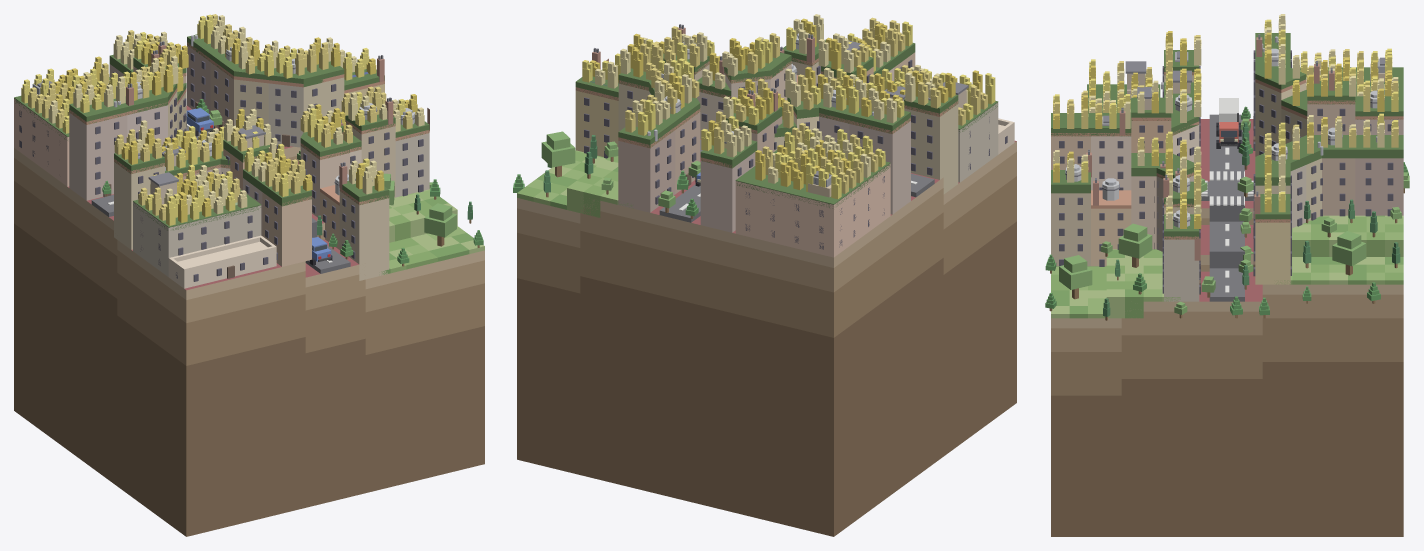
Rendered from block_18_urbanfarm_55.glb.
3 views of the same model, side by side, from view 1: azimuth 30°, elevation 25°; view 2: azimuth 150°, elevation 25°; view 3: azimuth 270°, elevation 25° (orthographic). The views are drawn at different scales.
Visible parts, largest first — view 1: Patch_MidRight_b17_UF, Cerda_MidRight_b17_UF, Insets_MidRight_b17_UF, UFR_Cerda_MidRight_b17_UF, Green_MidRight_b17_UF, CerdaRoofProps_MidRight_b17_UF, UFR_Insets_MidRight_b17_UF, Roads_MidRight_b17_UF, Asset_Tree_Round.071_UF; view 2: Patch_MidRight_b17_UF, Cerda_MidRight_b17_UF, Insets_MidRight_b17_UF, UFR_Cerda_MidRight_b17_UF, Green_MidRight_b17_UF, CerdaRoofProps_MidRight_b17_UF, UFR_Insets_MidRight_b17_UF, Roads_MidRight_b17_UF, Asset_Tree_Round.064_UF; view 3: Patch_MidRight_b17_UF, Cerda_MidRight_b17_UF, Green_MidRight_b17_UF, UFR_Cerda_MidRight_b17_UF, Roads_MidRight_b17_UF, CerdaRoofProps_MidRight_b17_UF, Asset_Truck.010_UF, Asset_Tree_Round.064_UF, Asset_Tree_Round.070_UF, Asset_Tree_Round.071_UF, UFR_Insets_MidRight_b17_UF, Zebra_MidRight_b17_UF.
Part boxes in pixels (x1,y1,x2,y2): Patch_MidRight_b17_UF: (14,106,484,536); Cerda_MidRight_b17_UF: (69,42,429,280); Insets_MidRight_b17_UF: (14,94,276,288); UFR_Cerda_MidRight_b17_UF: (69,34,429,206); Green_MidRight_b17_UF: (381,189,484,274); CerdaRoofProps_MidRight_b17_UF: (32,35,429,201); UFR_Insets_MidRight_b17_UF: (14,77,261,230); Roads_MidRight_b17_UF: (91,110,350,273); Asset_Tree_Round.071_UF: (424,203,456,246); Patch_MidRight_b17_UF: (517,139,1016,536); Cerda_MidRight_b17_UF: (575,52,958,232); Insets_MidRight_b17_UF: (735,102,1014,257); UFR_Cerda_MidRight_b17_UF: (575,40,958,168); Green_MidRight_b17_UF: (517,150,633,217); CerdaRoofProps_MidRight_b17_UF: (589,24,968,187); UFR_Insets_MidRight_b17_UF: (735,82,998,208); Roads_MidRight_b17_UF: (659,140,934,222); Asset_Tree_Round.064_UF: (541,131,575,177); Patch_MidRight_b17_UF: (1051,119,1403,536); Cerda_MidRight_b17_UF: (1051,50,1403,301); Green_MidRight_b17_UF: (1051,215,1403,318); UFR_Cerda_MidRight_b17_UF: (1051,33,1403,239); Roads_MidRight_b17_UF: (1201,114,1253,301); CerdaRoofProps_MidRight_b17_UF: (1065,34,1391,260); Asset_Truck.010_UF: (1216,98,1241,148); Asset_Tree_Round.064_UF: (1332,231,1366,275); Asset_Tree_Round.070_UF: (1118,223,1152,267); Asset_Tree_Round.071_UF: (1059,255,1092,299); UFR_Insets_MidRight_b17_UF: (1087,67,1403,112); Zebra_MidRight_b17_UF: (1201,171,1254,205).
Size of the model in its own units: 10.09 by 11.34 by 9.82.
